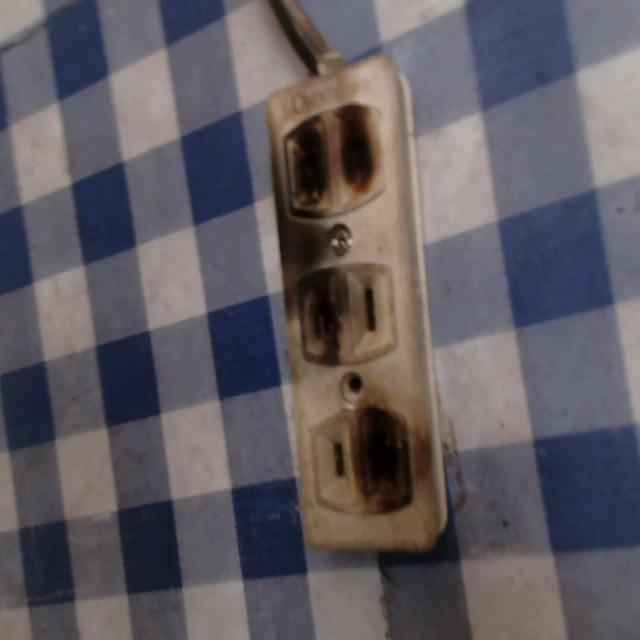-: (281, 104, 384, 215), (283, 259, 355, 373), (355, 406, 411, 514)
